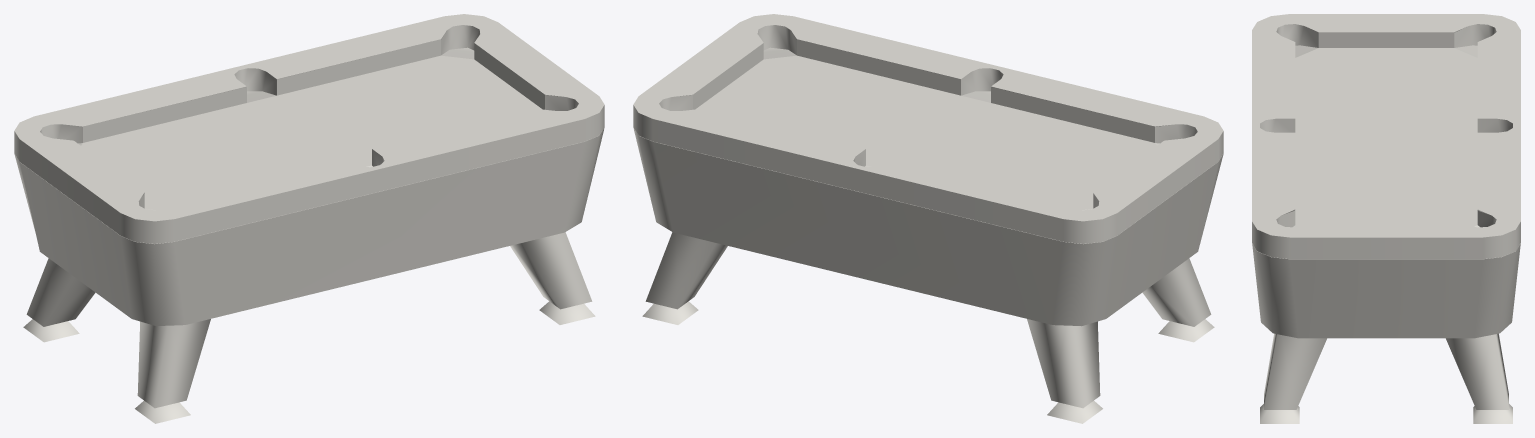
Rendered from table1.glb.
The picture shows the model from 3 angles, left to right: view 1: azimuth 30°, elevation 25°; view 2: azimuth 150°, elevation 25°; view 3: azimuth 270°, elevation 25°; orthographic projection. The views are drawn at different scales.
Visible parts, largest first — view 1: node_id36, node_id38, node_id34; view 2: node_id36, node_id38, node_id34; view 3: node_id38, node_id34, node_id36.
Boxes of the visible parts, left/top/right/bottom form: node_id36: left=14, top=127, right=604, bottom=423; node_id38: left=40, top=25, right=578, bottom=210; node_id34: left=14, top=14, right=604, bottom=243; node_id36: left=633, top=127, right=1223, bottom=423; node_id38: left=659, top=25, right=1197, bottom=210; node_id34: left=633, top=14, right=1223, bottom=243; node_id38: left=1260, top=24, right=1512, bottom=227; node_id34: left=1252, top=14, right=1520, bottom=258; node_id36: left=1252, top=244, right=1520, bottom=423.
Bounding box in the file's own units: 0.512 × 0.2087 × 0.2601.
Materials: 3 (3 with a texture image).
